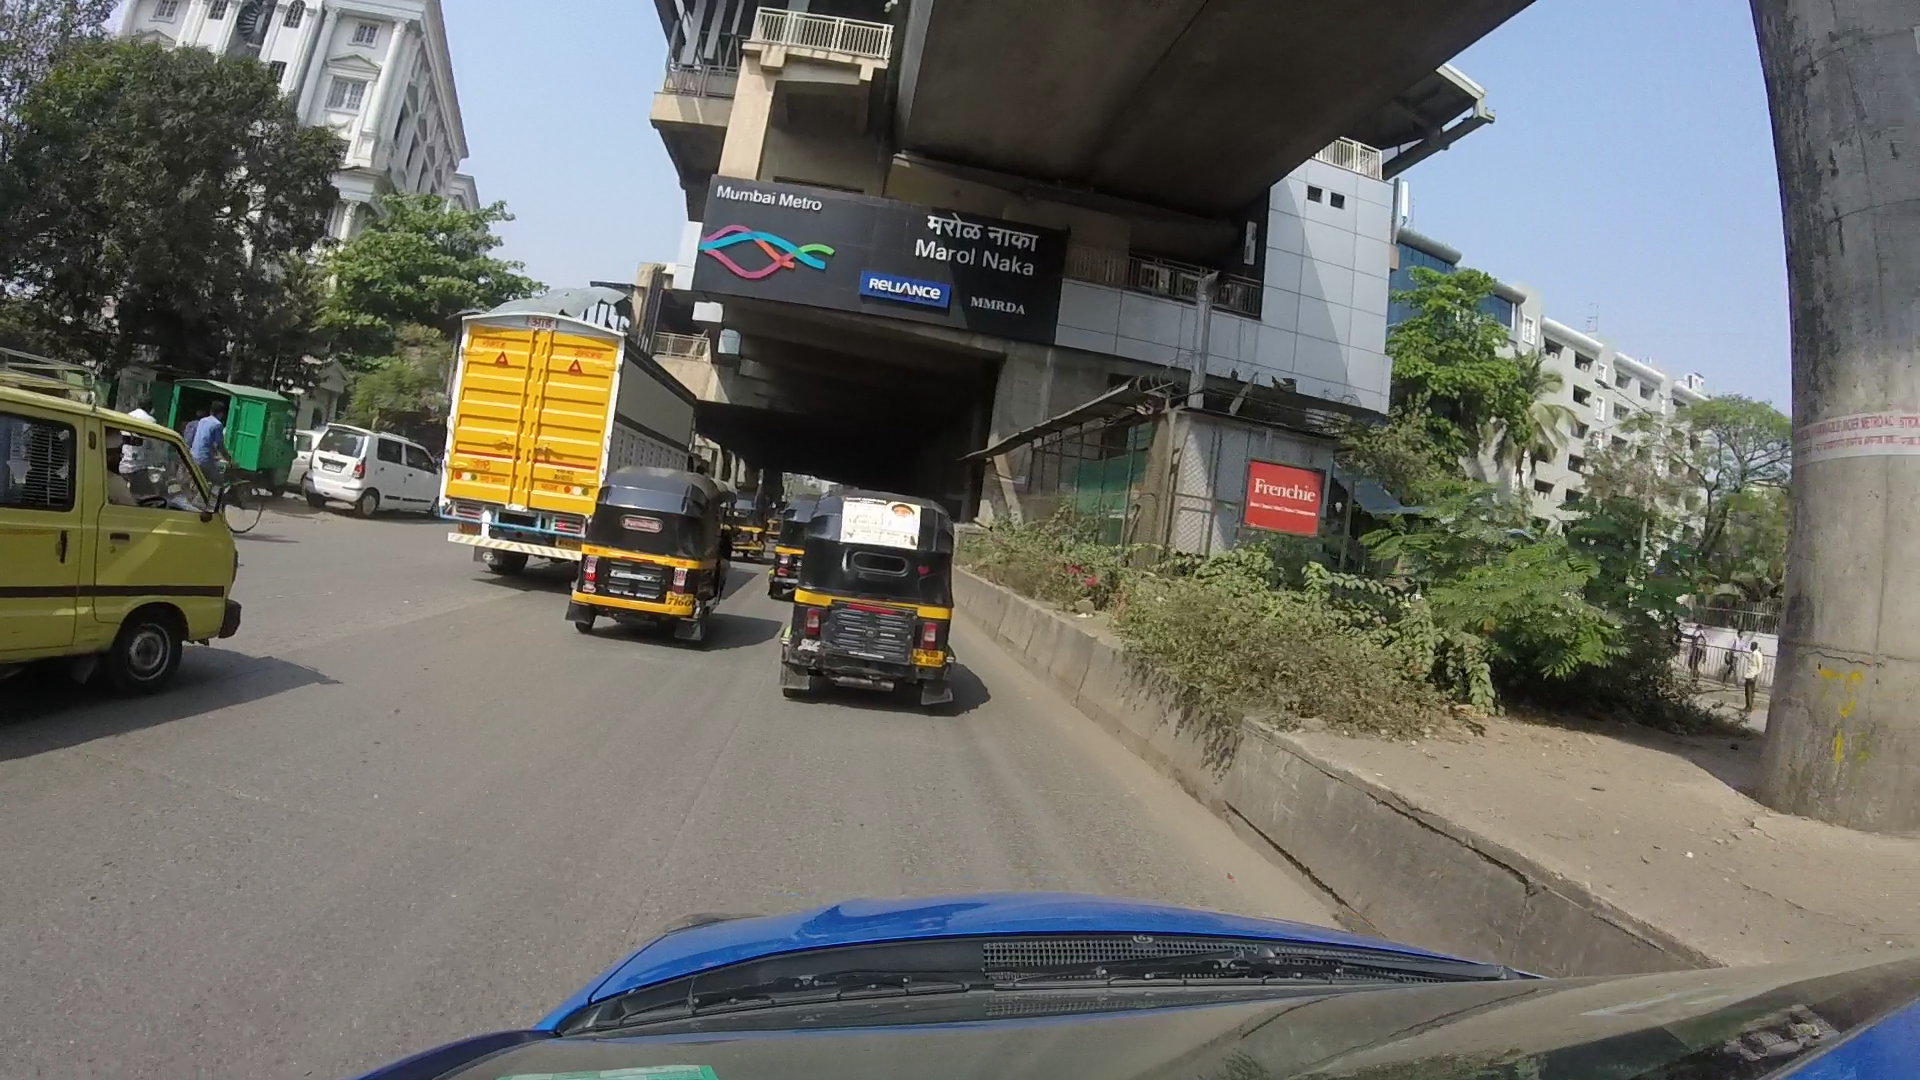car: (5, 357, 266, 676), (309, 419, 448, 522)
rickshaw: (778, 489, 952, 716), (572, 460, 725, 642)
truck: (446, 307, 716, 585)
